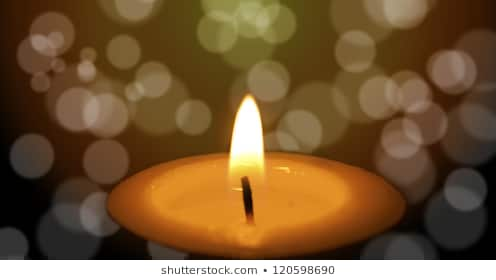Fire: (226, 95, 269, 174)
